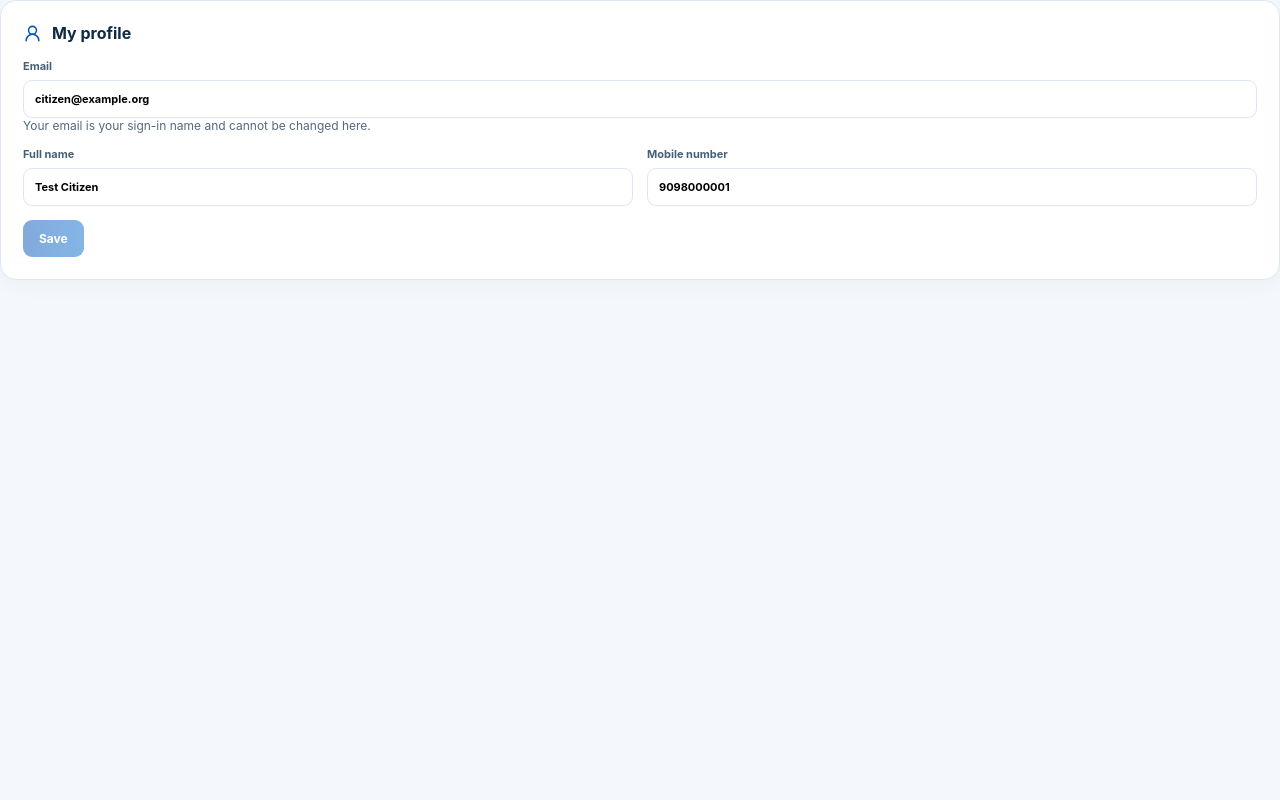
Test: My profile › saves trimmed values and updates the signed-in user's name
This screenshot has width=1280, height=800.
Replace the text in the field showing "Test Citizen" with "  New Name  " at (328, 187), box [23,168,633,206]
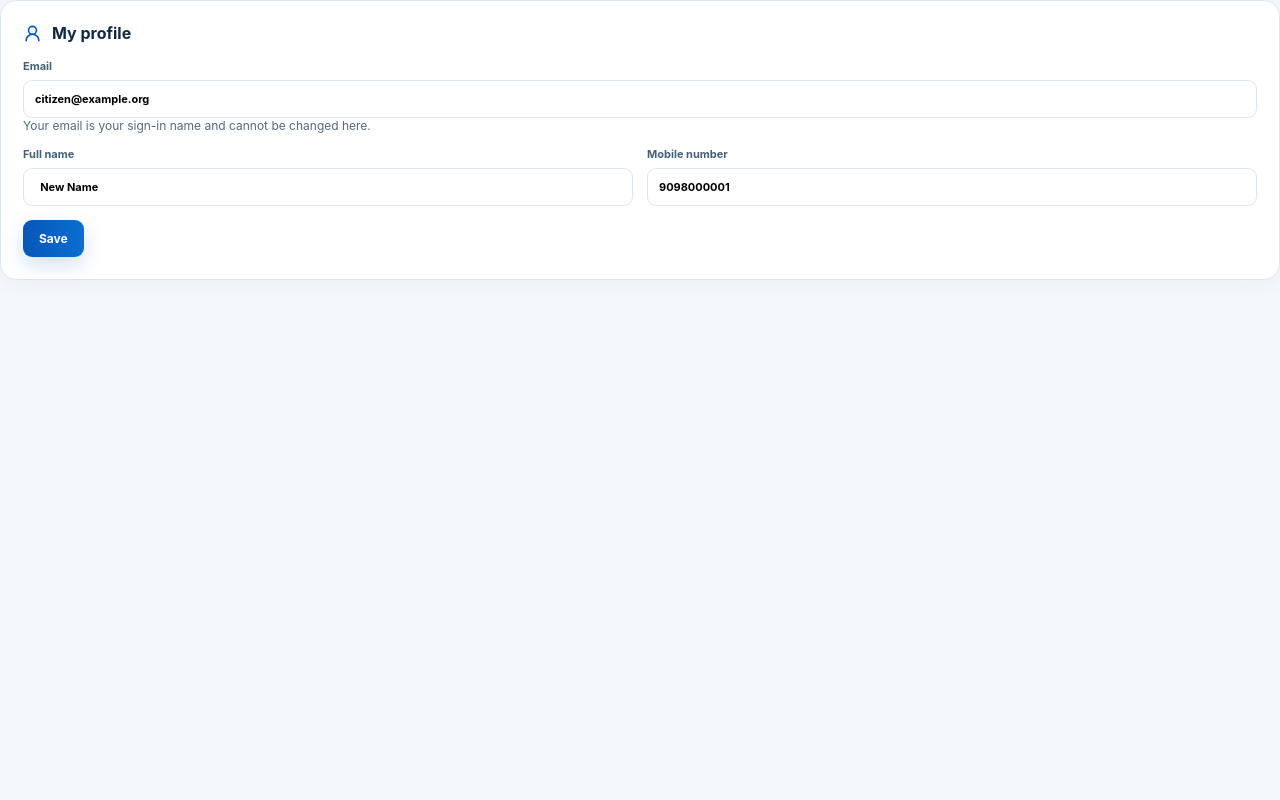
Click the button "Save" at (53, 238), box [23,220,84,257]
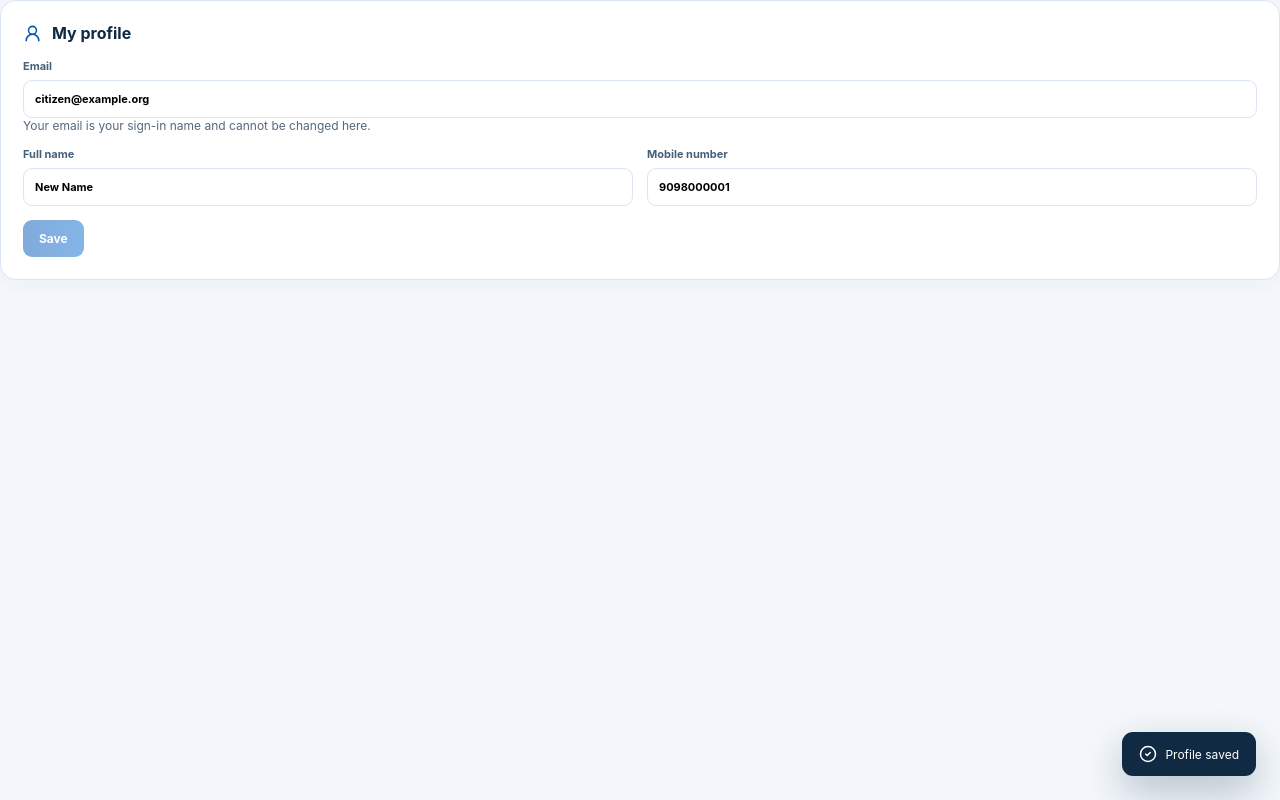
Expected: the text "Profile saved" is shown, [1122,732,1256,776]
